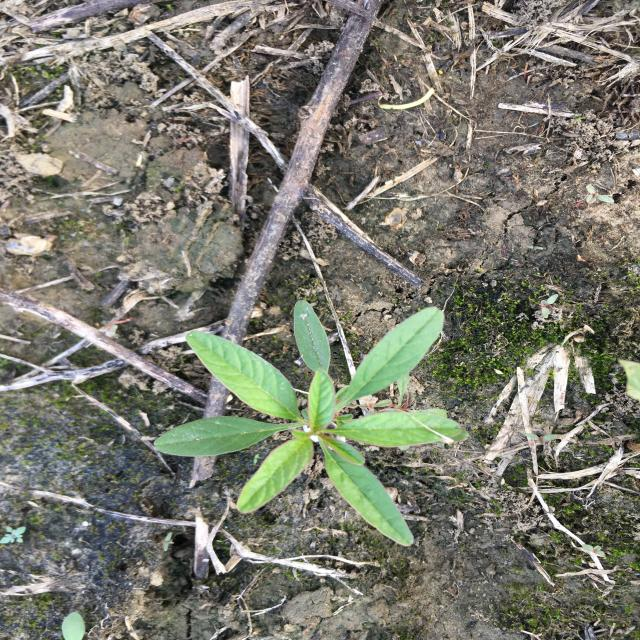Waterhemp: (152, 298, 471, 548)
